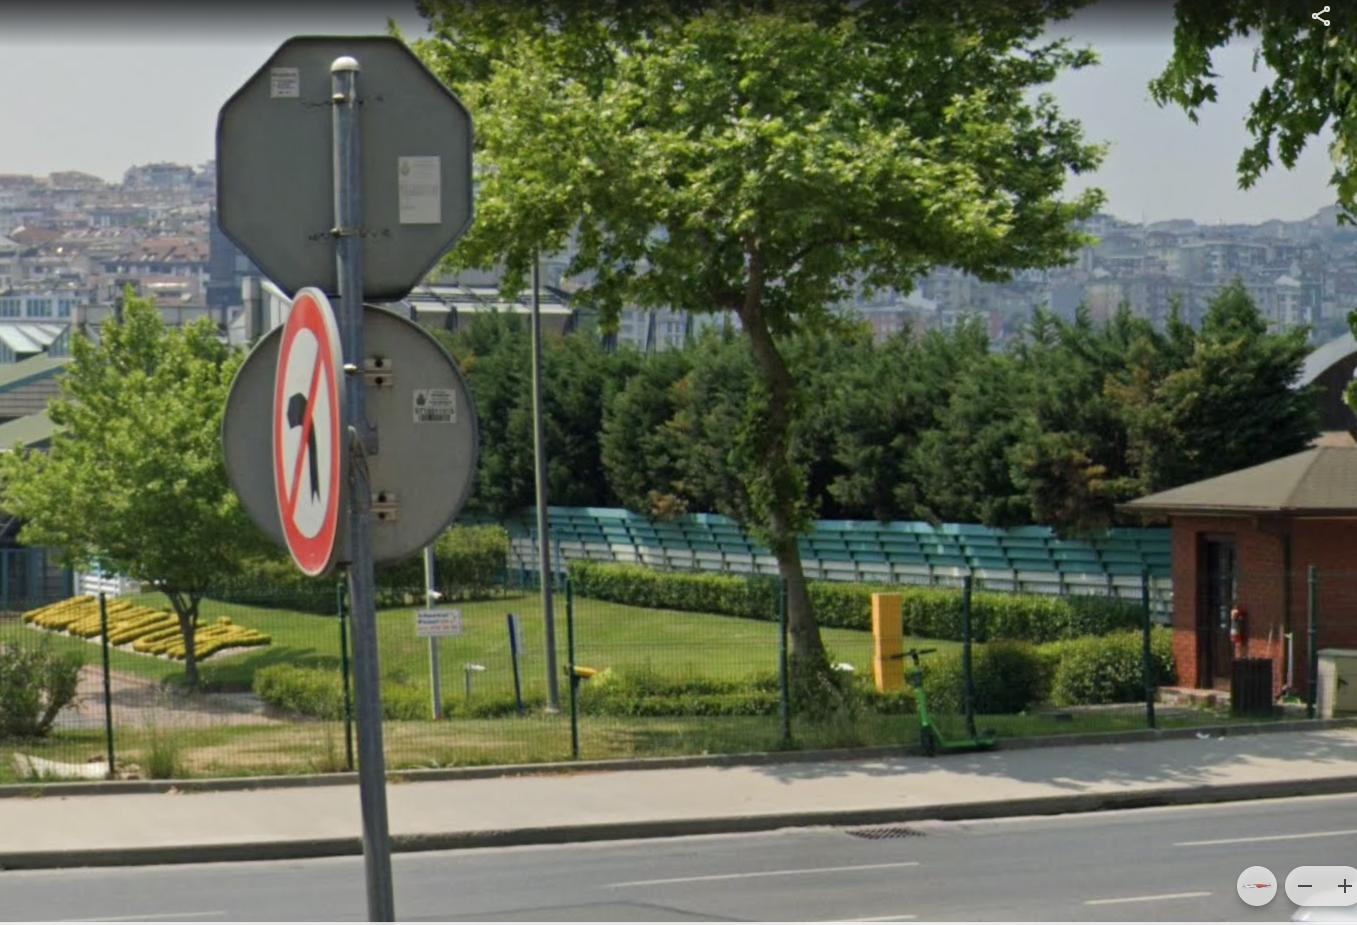leftturnsareforbidden: (261, 294, 359, 575)
